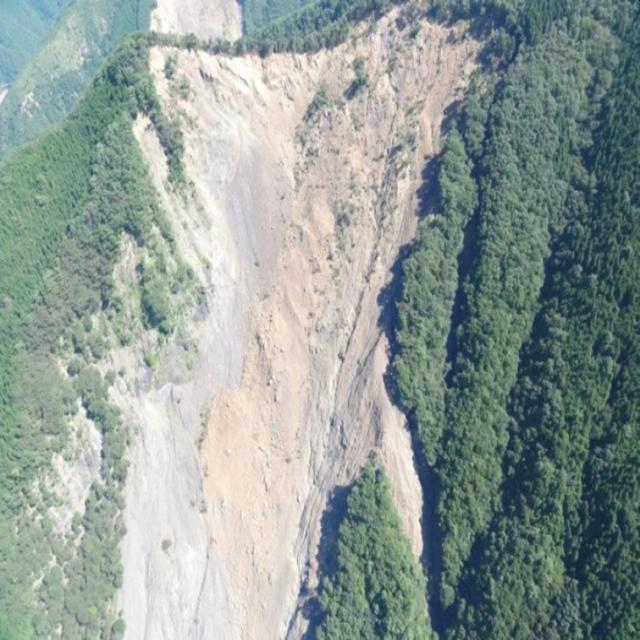Debris-flow: (92, 5, 480, 638), (151, 0, 241, 39)
